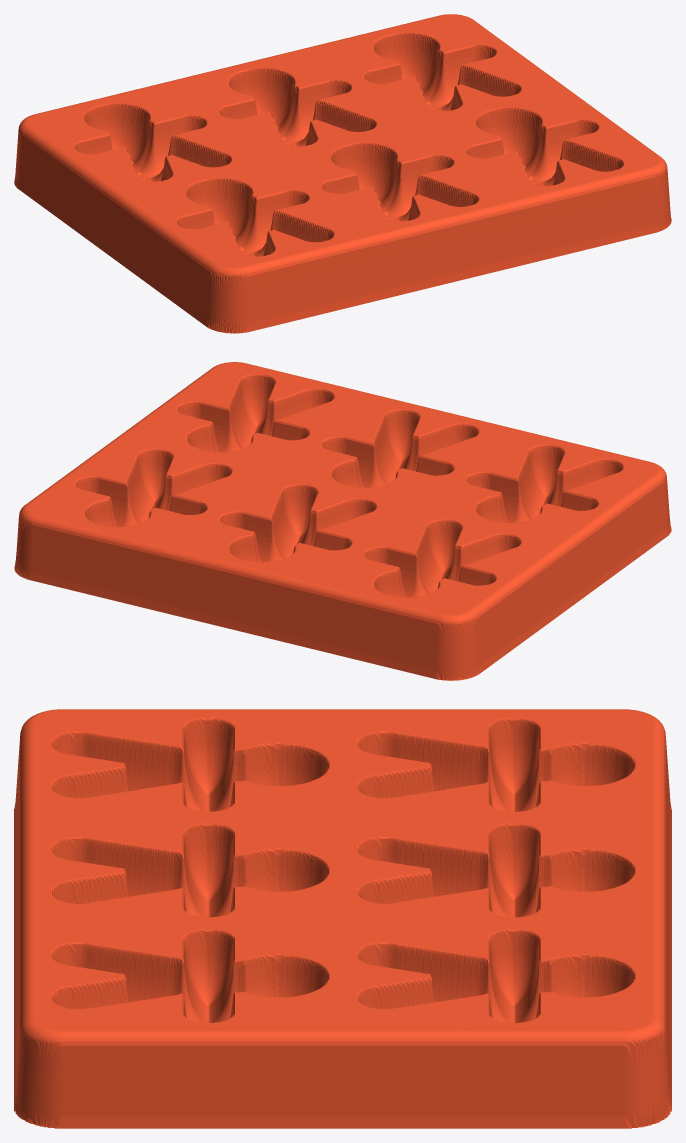
Rendered from mold.glb.
3 views of the same model, one above another, from view 1: azimuth 30°, elevation 25°; view 2: azimuth 150°, elevation 25°; view 3: azimuth 270°, elevation 25° (orthographic). The views are drawn at different scales.
Parts seen in each view (by area): view 1: geometry_0; view 2: geometry_0; view 3: geometry_0.
Part boxes in pixels (x1,y1,x2,y2): geometry_0: [14, 14, 671, 333]; geometry_0: [14, 362, 671, 680]; geometry_0: [14, 709, 671, 1128].
Size of the model in its own units: 0.1478 by 0.0185 by 0.1222.
